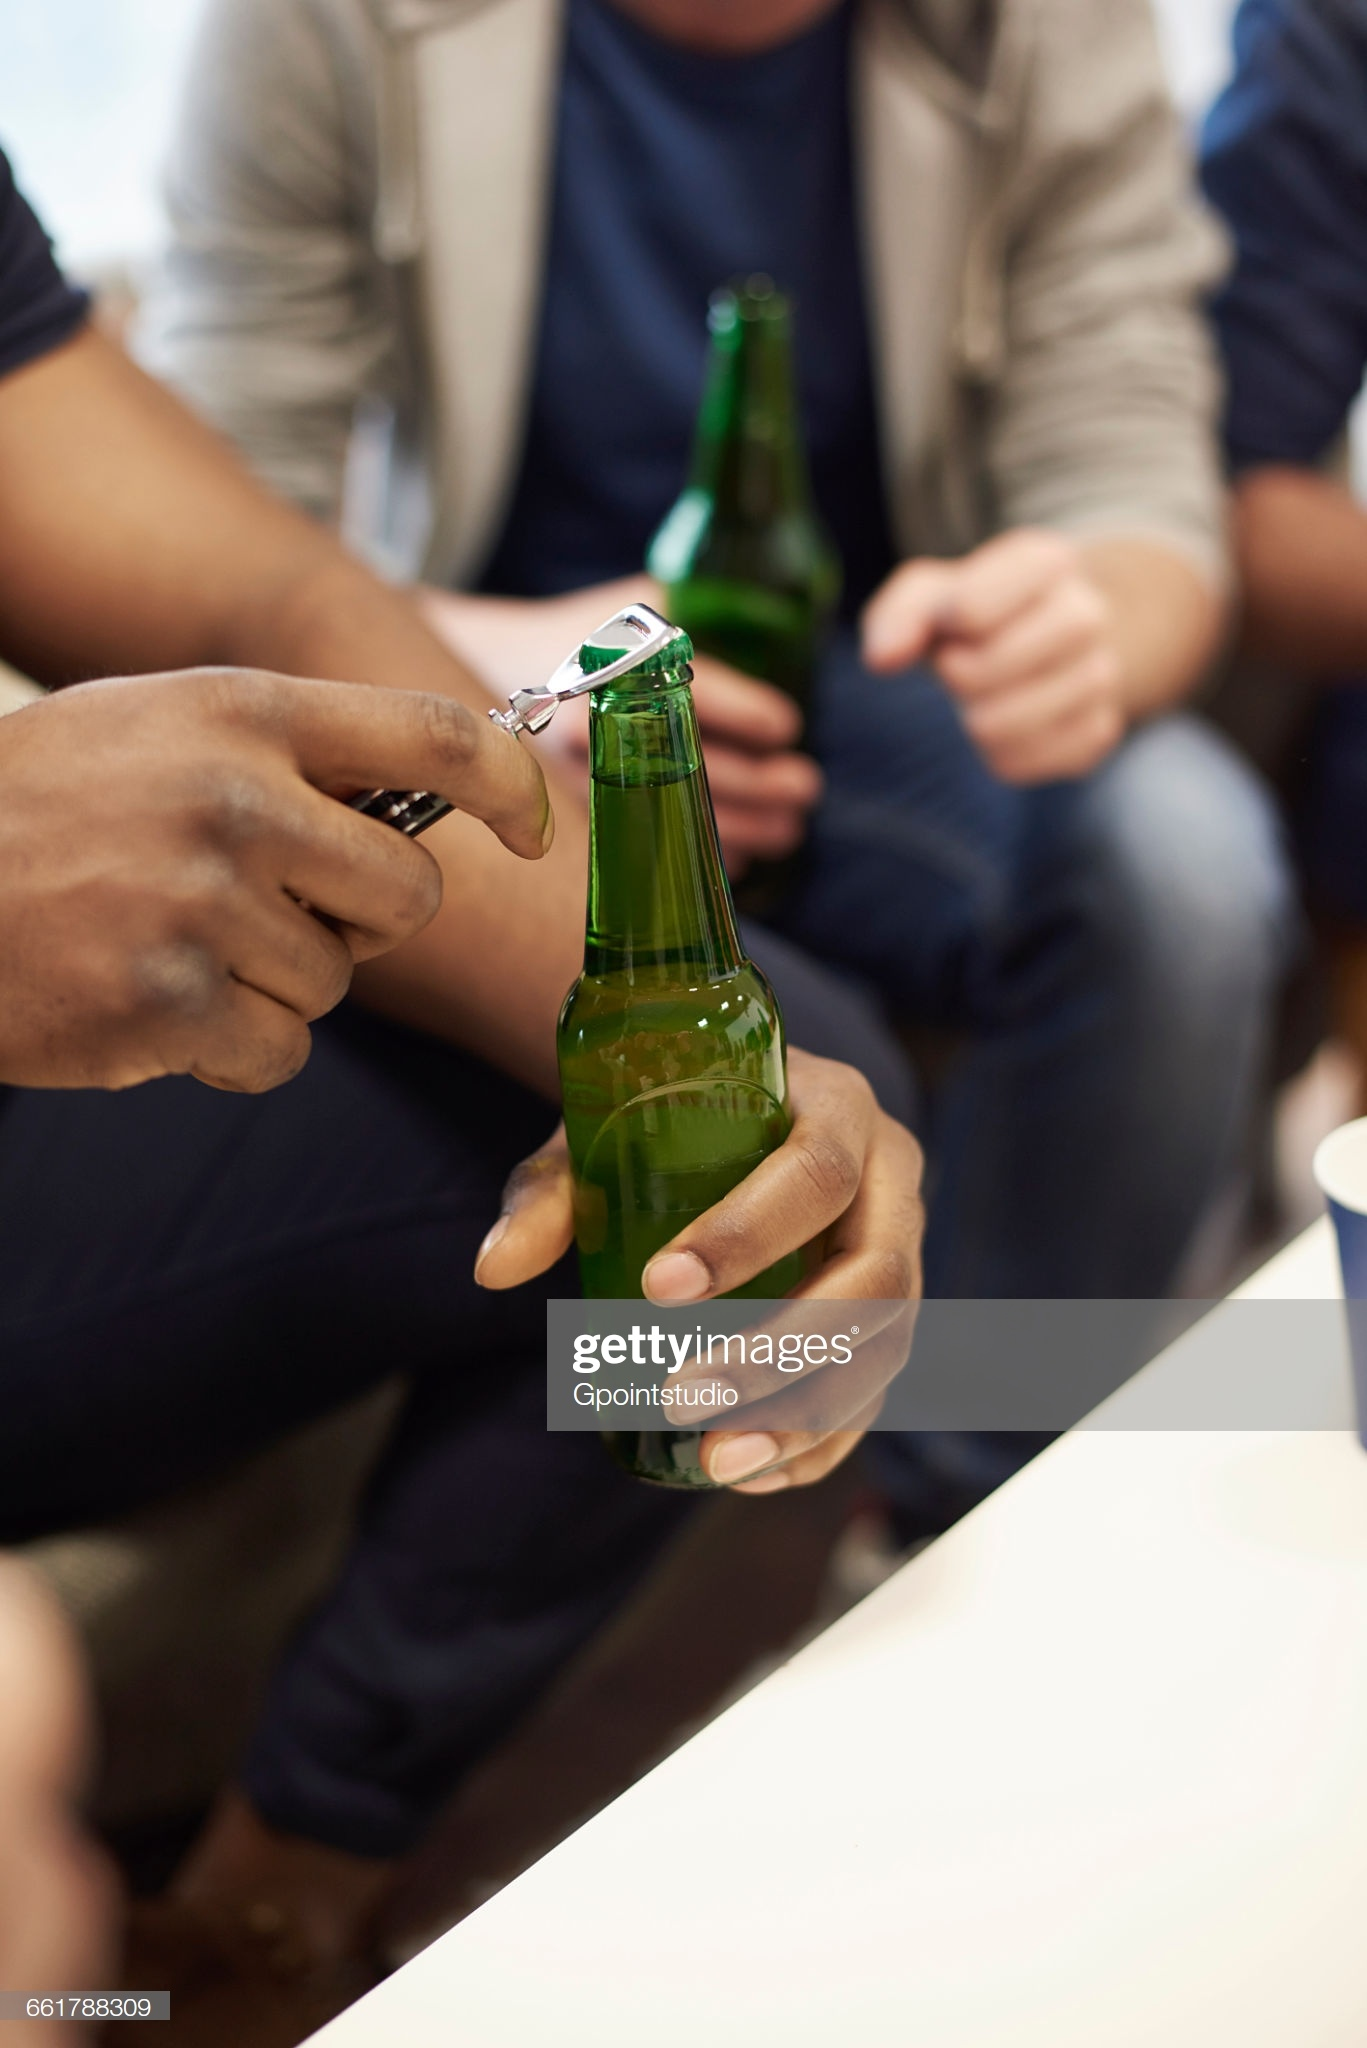beerBottle: (575, 627, 799, 1458)
